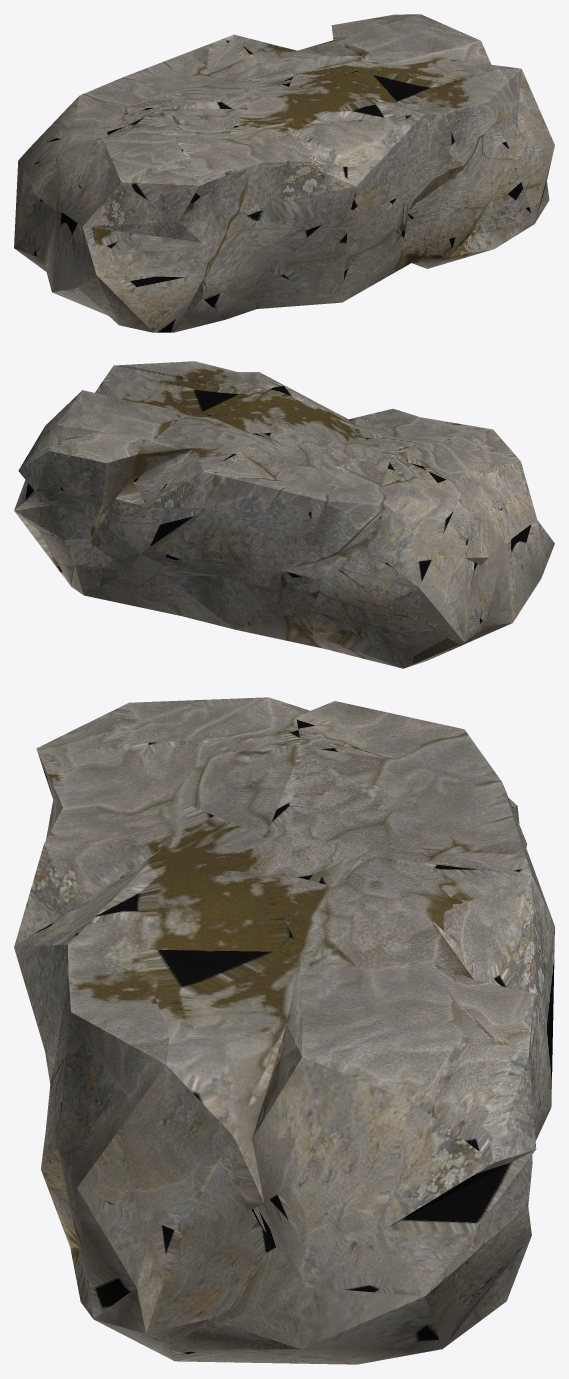
Rendered from ea_rainstone_lod1.glb.
The picture shows the model from 3 angles, top to bottom: view 1: azimuth 30°, elevation 25°; view 2: azimuth 150°, elevation 25°; view 3: azimuth 270°, elevation 25°; orthographic projection. The views are drawn at different scales.
Visible parts, largest first — view 1: output_unwrapped; view 2: output_unwrapped; view 3: output_unwrapped.
Part boxes in pixels (bbox=[...]): output_unwrapped: bbox=[14, 14, 554, 332]; output_unwrapped: bbox=[14, 361, 554, 668]; output_unwrapped: bbox=[14, 697, 554, 1364].
Bounding box in the file's own units: 1.88 × 0.6869 × 0.9937.
Materials: 1 (1 with a texture image).
